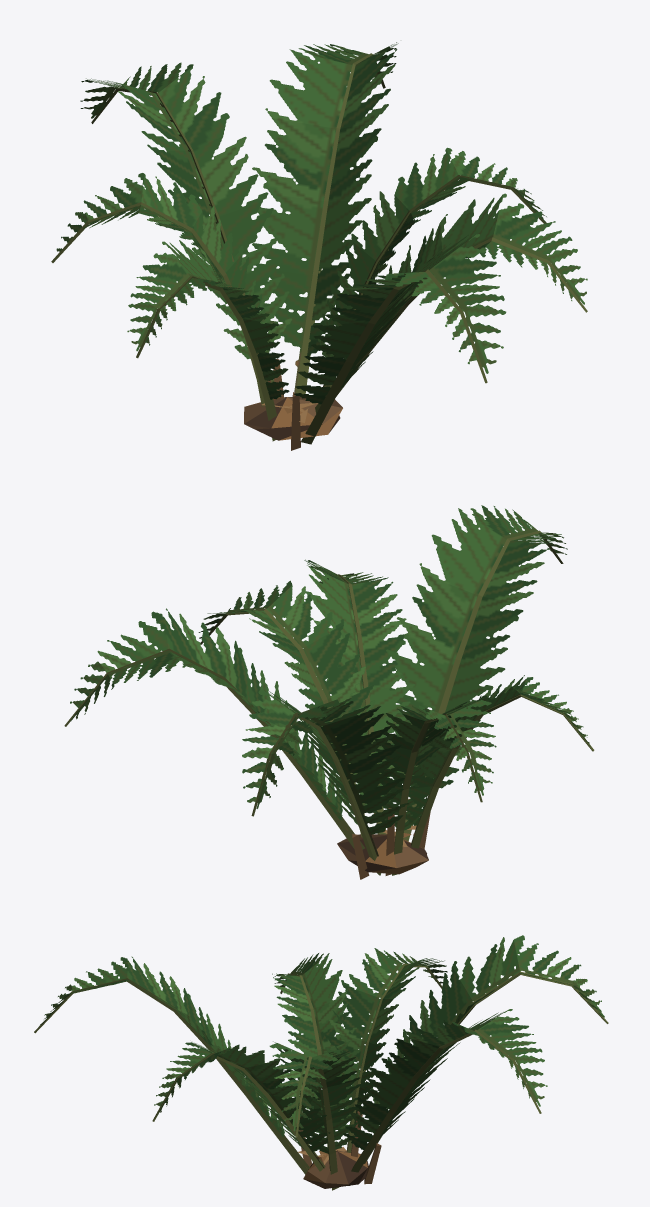
Rendered from fern_sword3_v1.fbx.
The picture shows the model from 3 angles, top to bottom: view 1: azimuth 30°, elevation 25°; view 2: azimuth 150°, elevation 25°; view 3: azimuth 270°, elevation 25°; orthographic projection. The views are drawn at different scales.
Parts seen in each view (by area): view 1: fern_sword3_v1; view 2: fern_sword3_v1; view 3: fern_sword3_v1.
Boxes of the visible parts, <box> form: fern_sword3_v1: <box>51,42,587,450</box>; fern_sword3_v1: <box>64,505,594,879</box>; fern_sword3_v1: <box>34,935,608,1190</box>.
Bounding box in the file's own units: 80.13 × 45.88 × 106.
